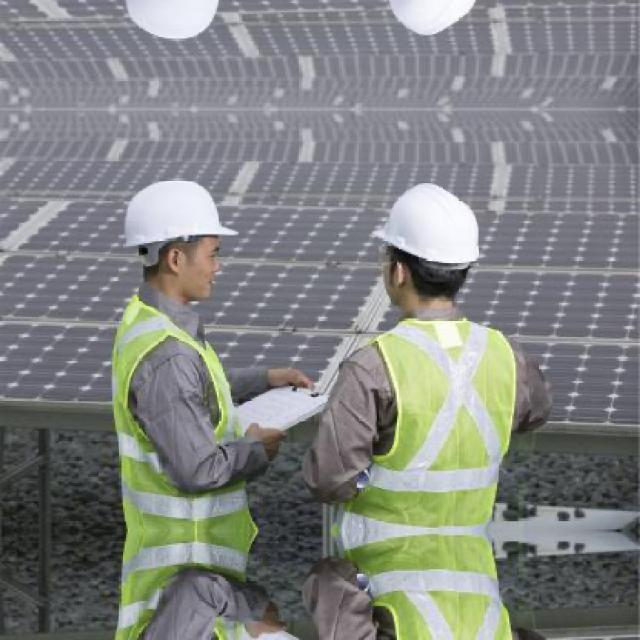helmet: (371, 171, 491, 315), (115, 168, 237, 308), (115, 0, 238, 49), (369, 0, 491, 46)
